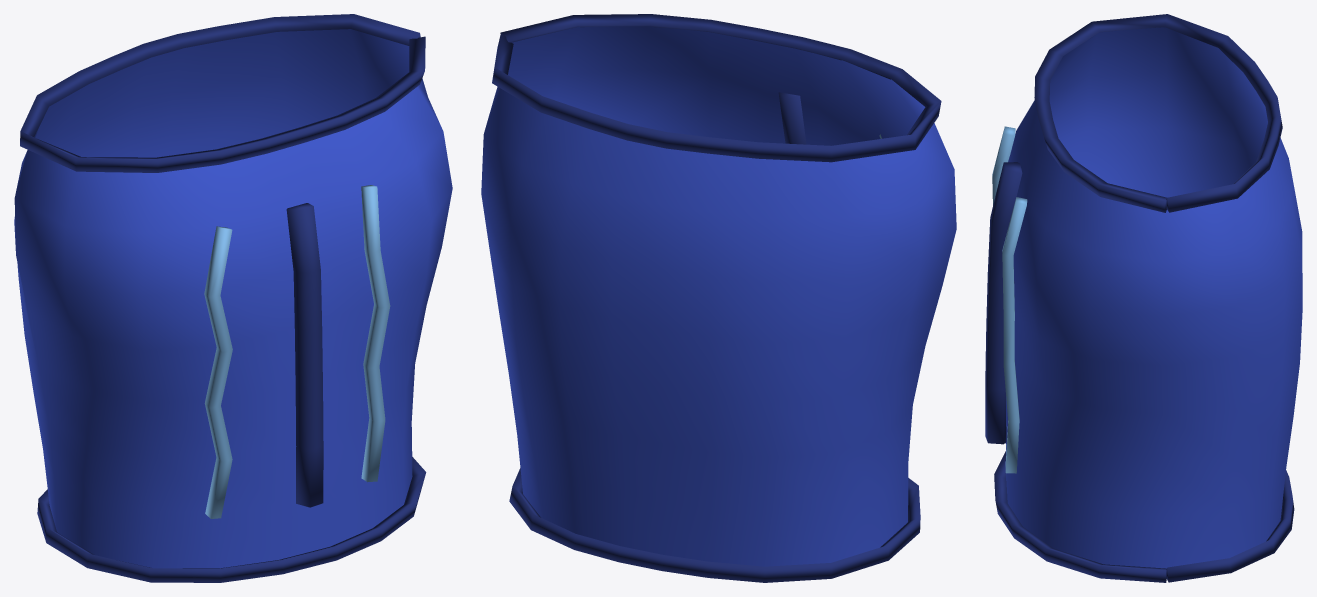
The model's file is shroomite_armor_chest.glb.
3 renders of one model, left to right at view 1: azimuth 30°, elevation 25°; view 2: azimuth 150°, elevation 25°; view 3: azimuth 270°, elevation 25°, orthographic. The views are drawn at different scales.
Parts seen in each view (by area): view 1: shroomite_armor_chest; view 2: shroomite_armor_chest; view 3: shroomite_armor_chest.
Part boxes in pixels (bbox=[...]): shroomite_armor_chest: bbox=[14, 14, 452, 582]; shroomite_armor_chest: bbox=[481, 14, 956, 582]; shroomite_armor_chest: bbox=[985, 14, 1302, 582].
Bounding box in the file's own units: 0.3976 × 0.3857 × 0.2799.
